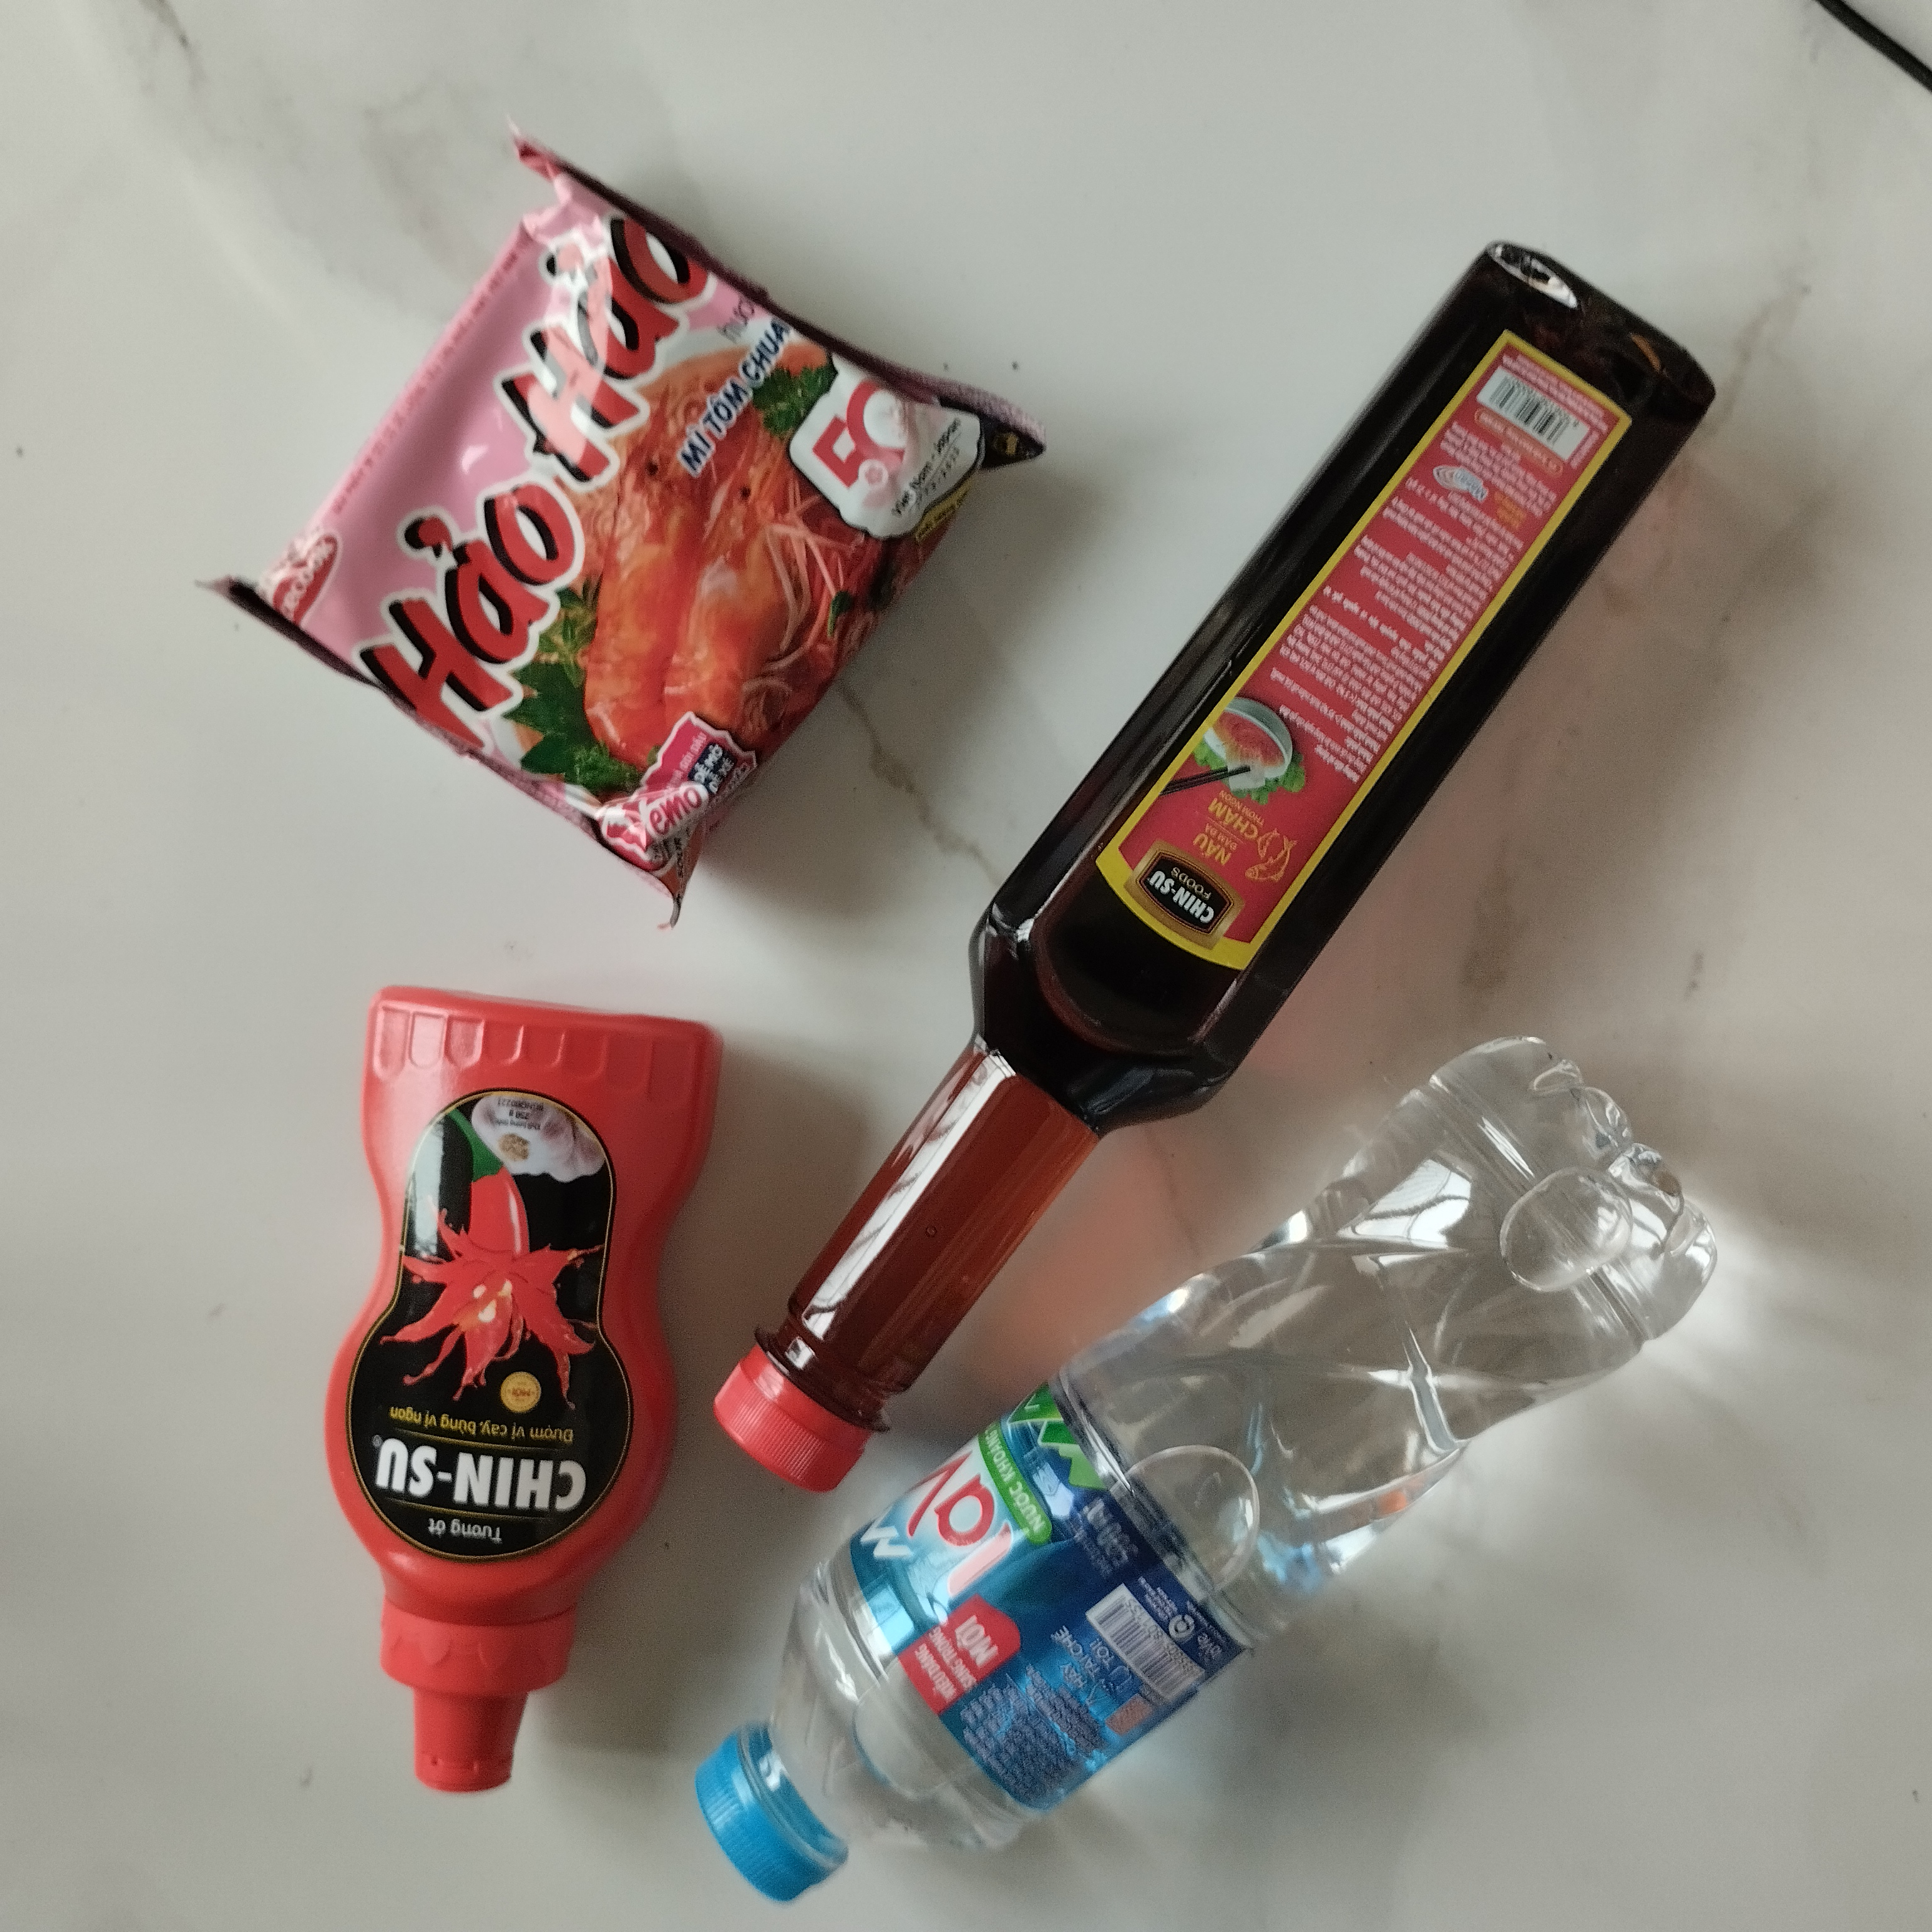Chinsu: (318, 984, 724, 1798)
Haohao: (193, 127, 1047, 945)
Lavie: (685, 1026, 1739, 1905)
Namngu: (704, 235, 1721, 1493)
